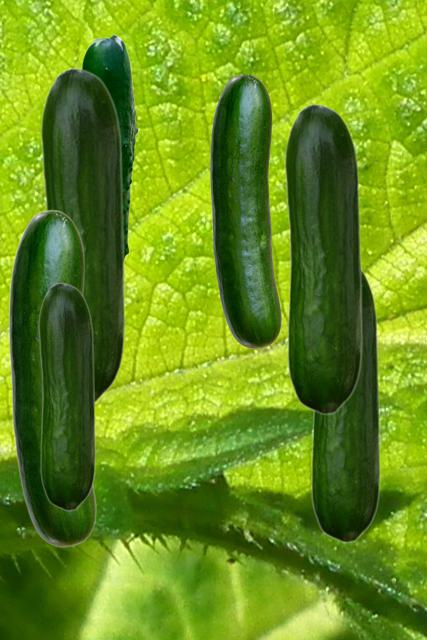cucumber: (8, 209, 95, 546), (40, 67, 125, 403), (284, 103, 362, 414), (309, 270, 380, 542), (210, 74, 280, 347), (38, 282, 95, 510), (81, 34, 137, 256)
